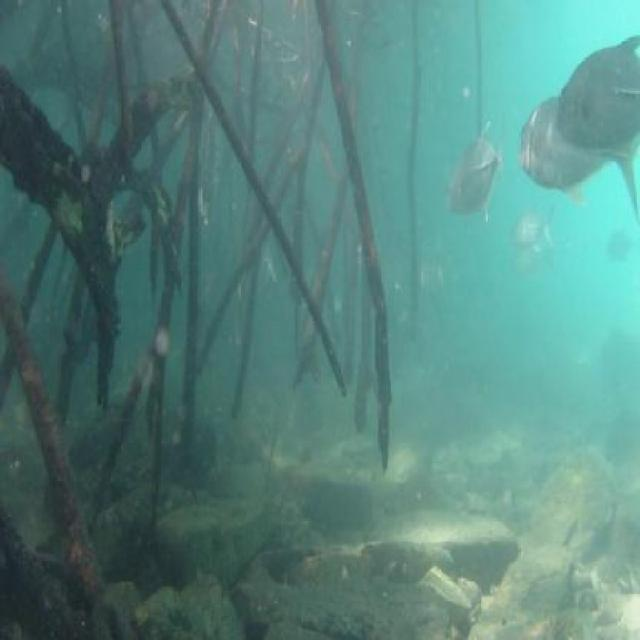Caranx_sexfasciatus_juvenile: (520, 85, 640, 213), (564, 30, 640, 161), (444, 107, 508, 231), (504, 234, 565, 286), (512, 202, 566, 250)
